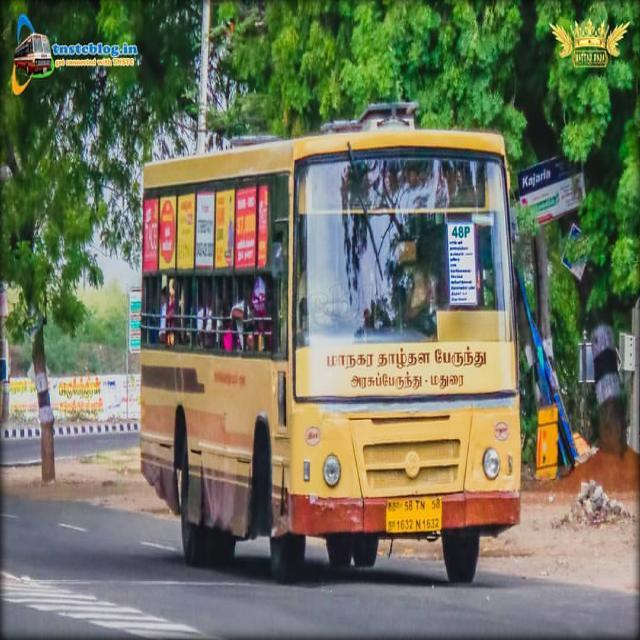Bus: (138, 114, 527, 586)
